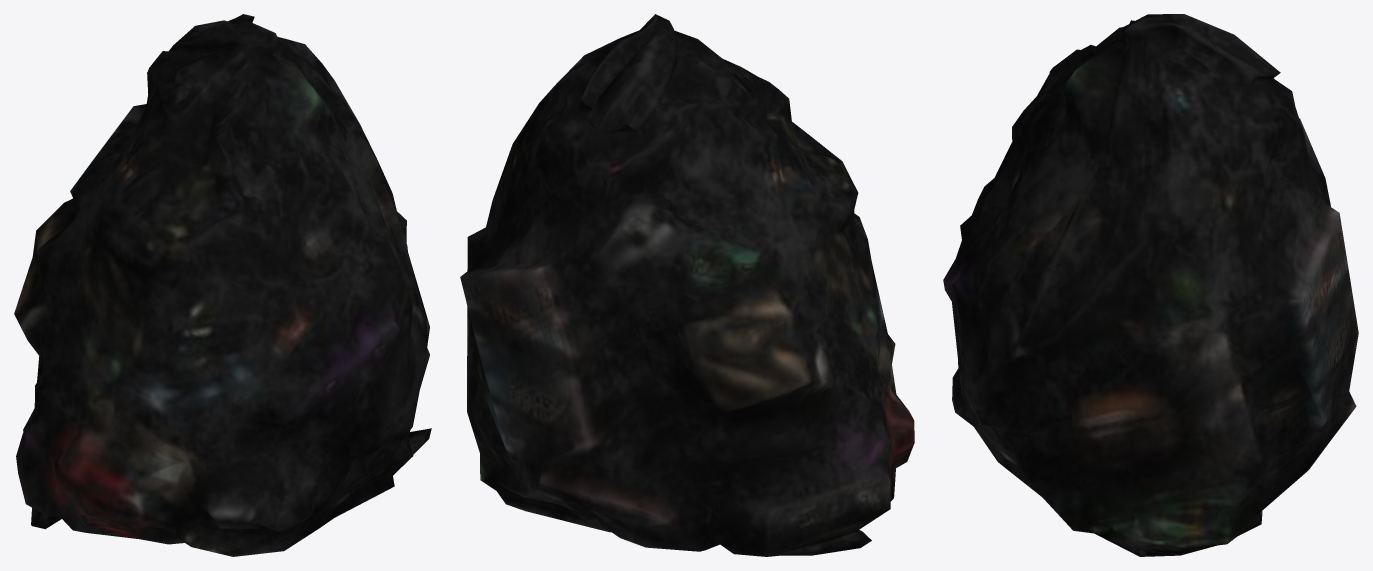
File: trashbag.glb
3 renders of one model, left to right at view 1: azimuth 30°, elevation 25°; view 2: azimuth 150°, elevation 25°; view 3: azimuth 270°, elevation 25°, orthographic. The views are drawn at different scales.
Parts seen in each view (by area): view 1: trashbag; view 2: trashbag; view 3: trashbag.
Boxes of the visible parts, left/top/right/bottom form: trashbag: left=14, top=14, right=431, bottom=556; trashbag: left=460, top=14, right=914, bottom=556; trashbag: left=943, top=14, right=1358, bottom=556.
Size of the model in its own units: 0.5281 by 0.5725 by 0.4629.
Materials: 1 (1 with a texture image).
